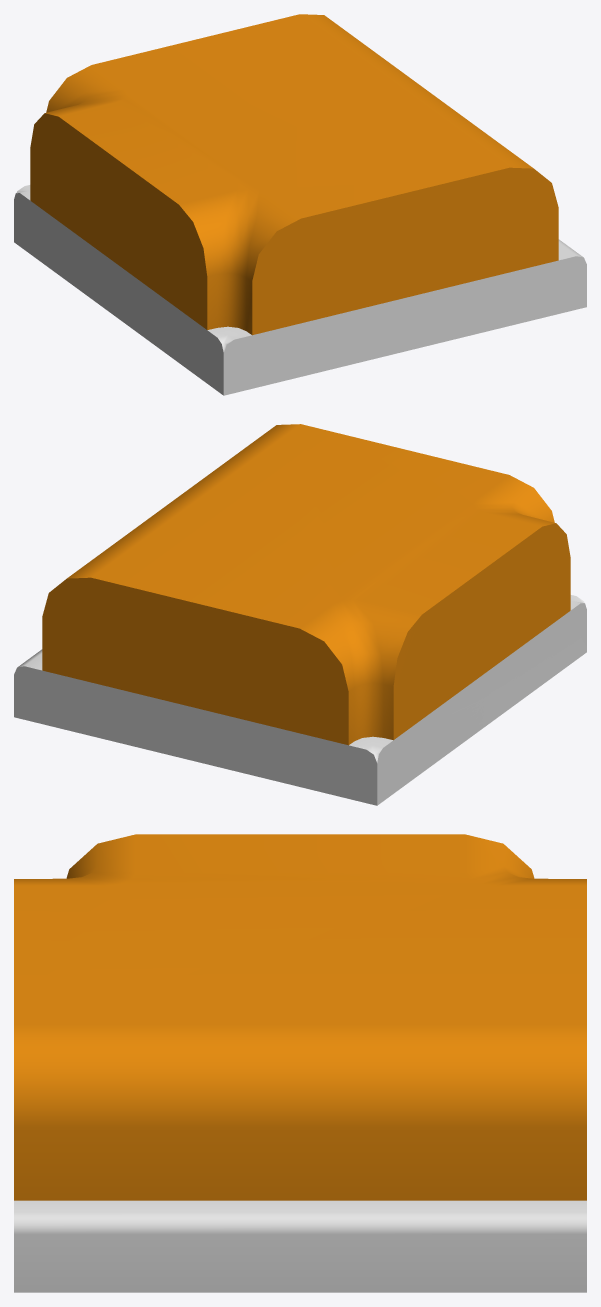
The model's file is Wall_T_Beveled.fbx.
The picture shows the model from 3 angles, top to bottom: view 1: azimuth 30°, elevation 25°; view 2: azimuth 150°, elevation 25°; view 3: azimuth 270°, elevation 25°; orthographic projection. The views are drawn at different scales.
Parts seen in each view (by area): view 1: Wall_T_Beveled; view 2: Wall_T_Beveled; view 3: Wall_T_Beveled.
Boxes of the visible parts, box(x1,y1,x2,y2) form: Wall_T_Beveled: box(14, 14, 586, 395); Wall_T_Beveled: box(14, 424, 586, 805); Wall_T_Beveled: box(14, 834, 586, 1292).
Bounding box in the file's own units: 70.82 × 29.5 × 70.82.
